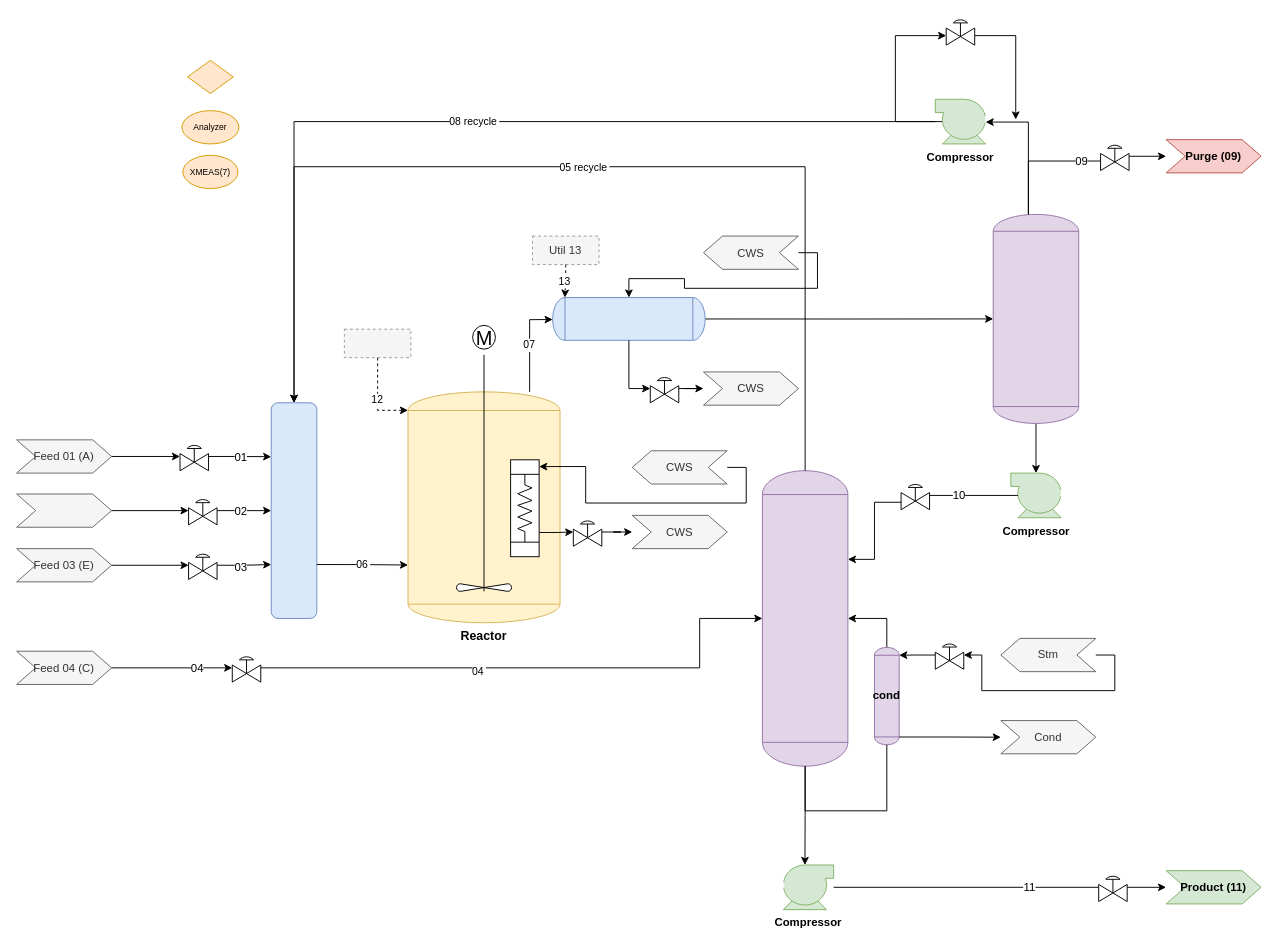
The diagram is 1278 pixels wide and 946 high, and some of its shapes have lost their labels. The centre of each missing label's shape, as x and y in pixels:
"Condenser" belongs at pixel 628 318.
"Feed 02 (D)" belongs at pixel 64 510.
"Feed Mixer" belongs at pixel 293 510.
"Separator Vap/Liq" belongs at pixel 1035 318.
"Stripper" belongs at pixel 804 618.
"Util 12" belongs at pixel 377 343.
"XMV(6)" belongs at pixel 210 76.
